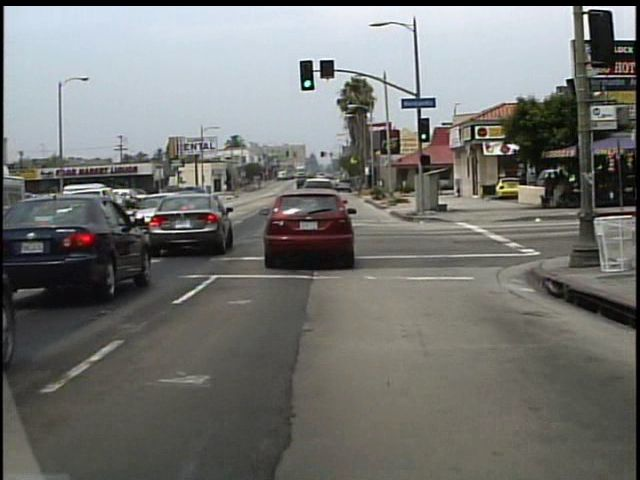person: (516, 170, 530, 206)
